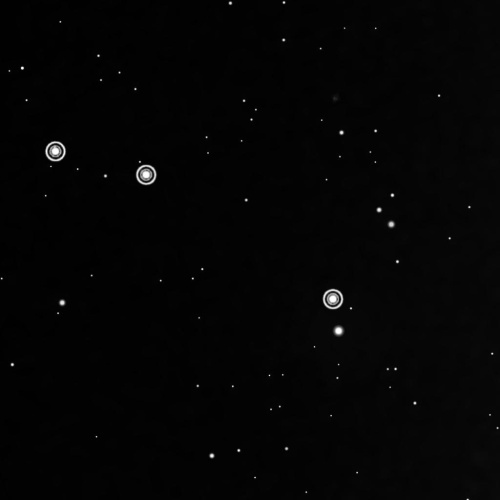vulpecula: (41, 135, 348, 313)
